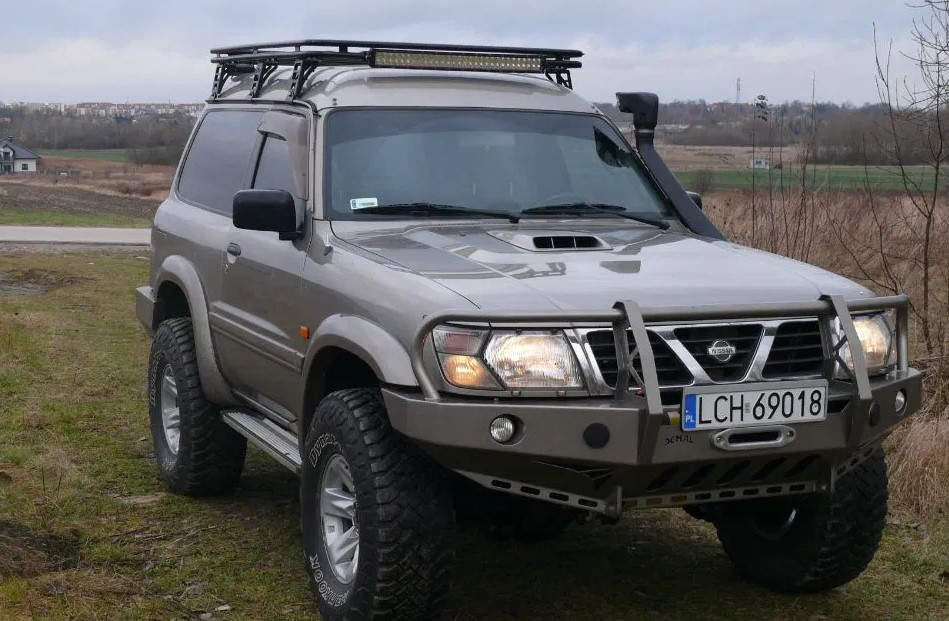number_plate: (668, 375, 843, 433)
